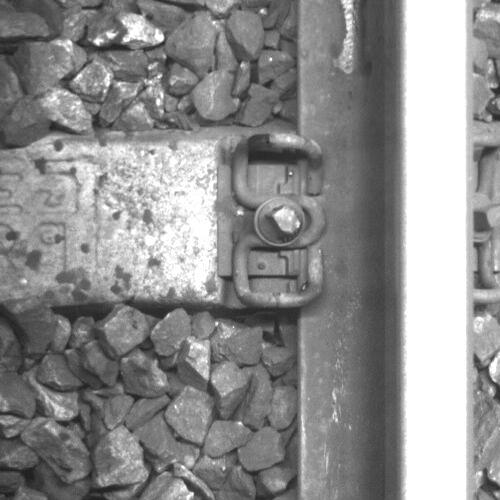rail: (401, 1, 473, 500)
tie_concr: (1, 140, 296, 304)
vossloh: (218, 130, 327, 310)
